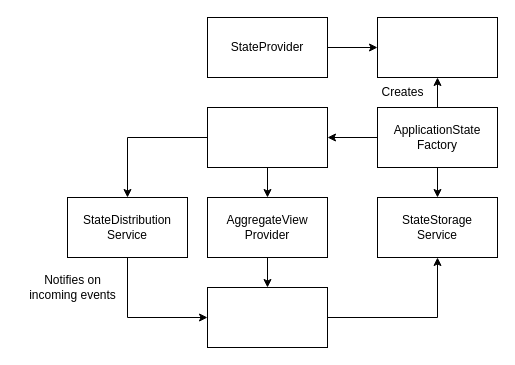
The diagram is 515 pixels wide and 365 high, and some of its shapes have lost their labels. Each missing label, with the box of its shape:
AggregateFacade Provider: (206, 286, 328, 348)
AggregateView Repository Factory: (206, 106, 328, 168)
ApplicationState: (376, 16, 498, 78)
